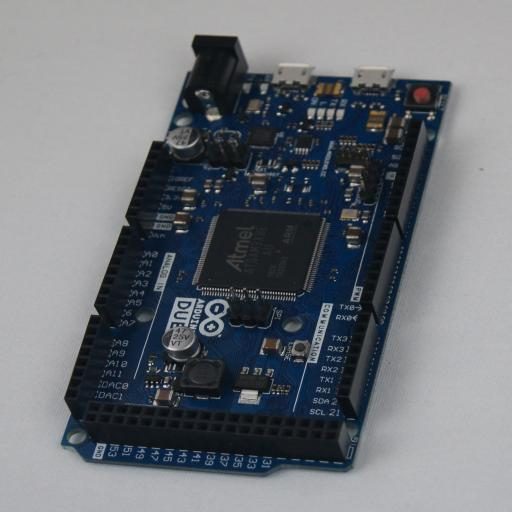Arduino Due: (61, 35, 451, 477)
